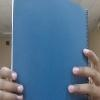notebook: (10, 0, 90, 99)
